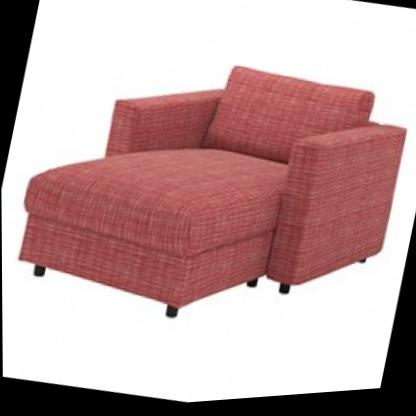Sofa: (0, 0, 416, 380)
